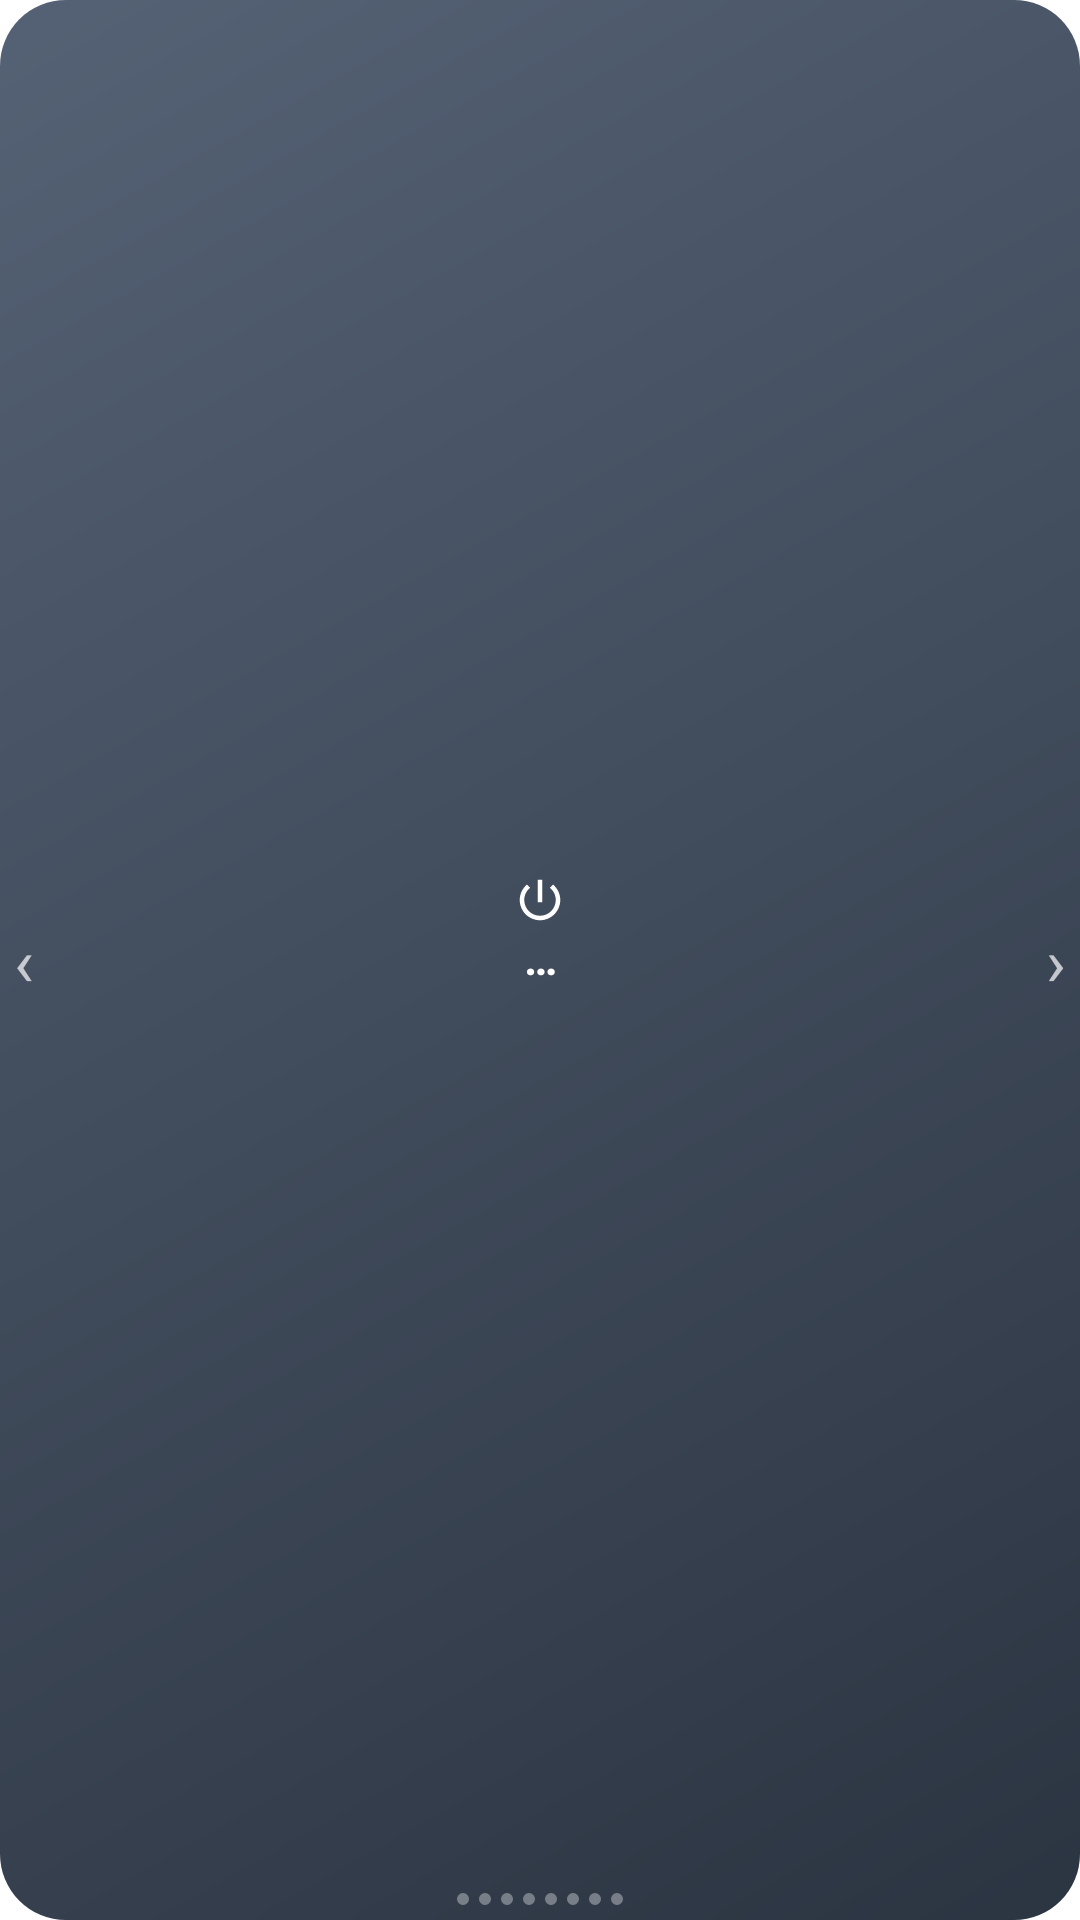

Icon click points for this 1080x1920 phone screenshot, format (x=x, y=y):
power: (x=540, y=900)
